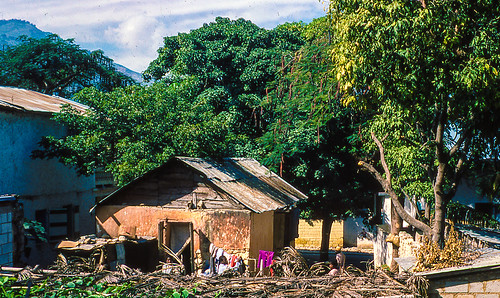building: (89, 156, 314, 267), (1, 93, 105, 263)
vegetation: (81, 1, 481, 195)
